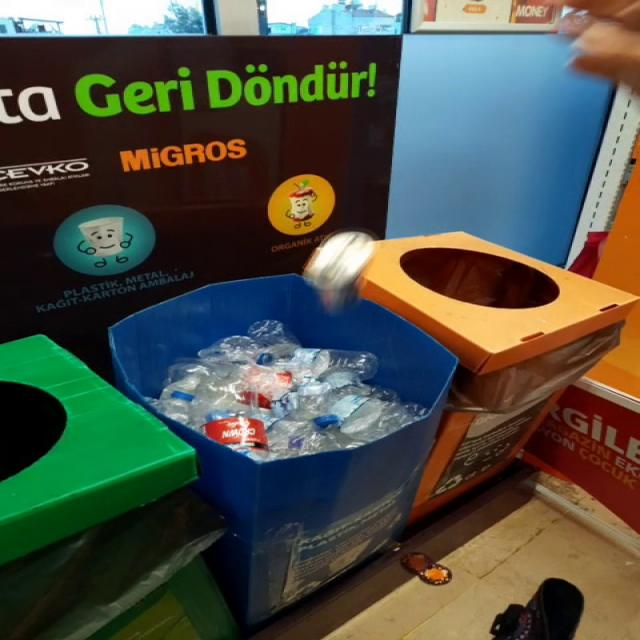metal: (303, 229, 376, 314)
